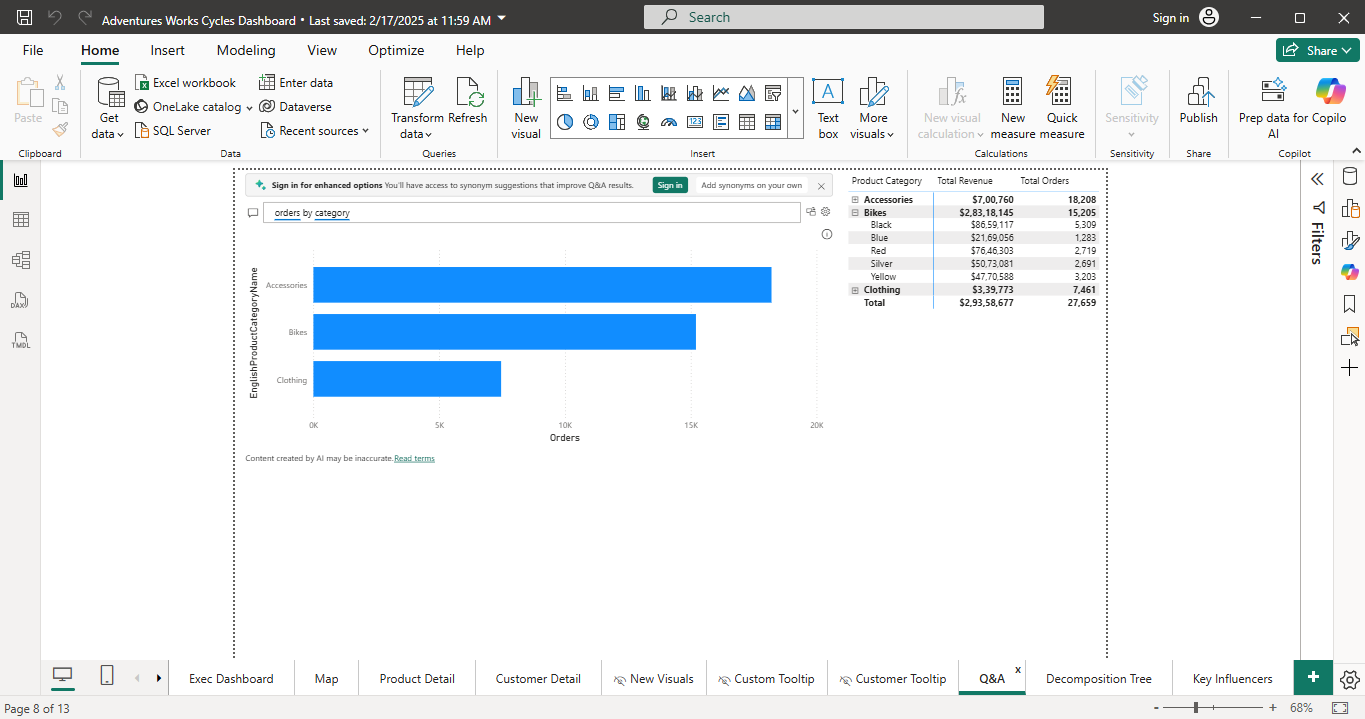

The page's visual inventory and layout, read from the dashboard file:
{"tool":"powerbi","page":{"name":"Q&A","canvas":[1280,720],"ordinal":7},"visuals":[{"type":"qnaVisual","box":[10.2,0,873.7,436.1],"z":0},{"type":"pivotTable","fields":{"Rows":["Dim Product Category.EnglishProductCategoryName","Dim Colors.Color"],"Values":["Measures Table.Total Revenue","Measures Table.Total Orders"]},"box":[897.1,0,383.4,248.8],"z":1000}]}

Visuals, with their boxes on the page's 1280x720 design canvas (x1, y1, x2, y2). These are canvas units, not pixel positions in the 1365x719 screenshot, which may show the page scaled, cropped or inside an application window:
qnaVisual: box=[10, 0, 884, 436]
pivotTable - Dim Product Category.EnglishProductCategoryName x Dim Colors.Color: box=[897, 0, 1280, 249]
